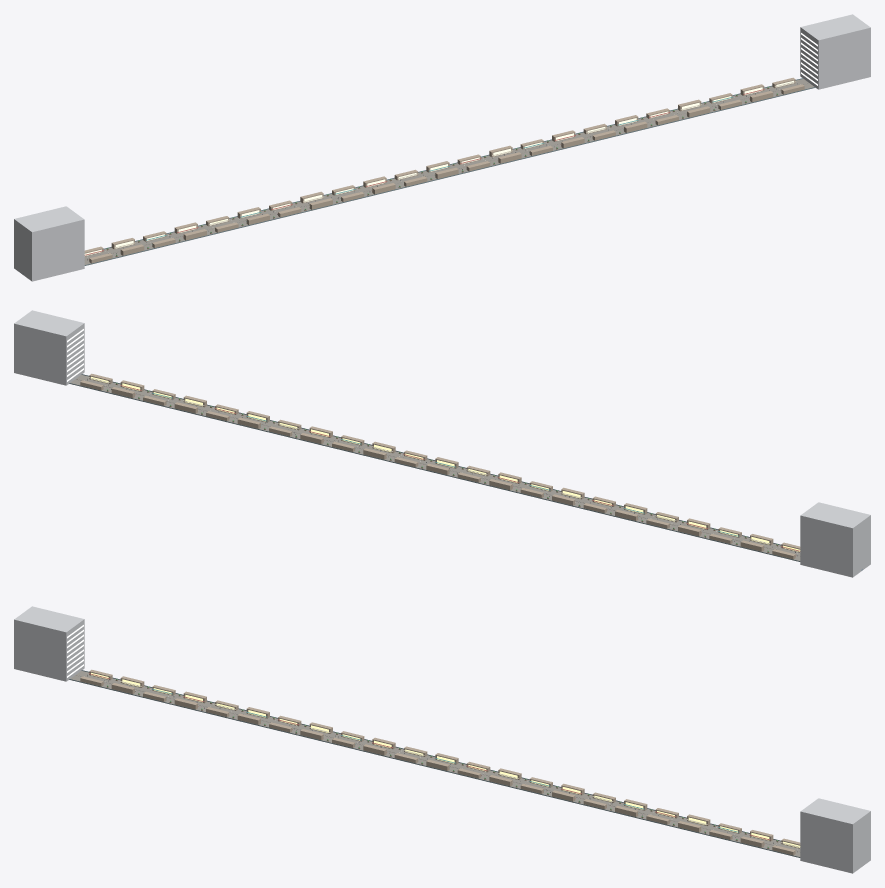
File: spine.glb
3 renders of one model, top to bottom at view 1: azimuth 30°, elevation 25°; view 2: azimuth 150°, elevation 25°; view 3: azimuth 330°, elevation 25°, orthographic.
Parts seen in each view (by area): view 1: Tower_Aft, Spine_Deck, Tower_Fore, Rail_Port; view 2: Tower_Aft, Spine_Deck, Tower_Fore, Rail_Stbd; view 3: Tower_Fore, Spine_Deck, Tower_Aft, Rail_Port.
Boxes of the visible parts, <box> form: Tower_Aft: <box>14,206,84,281</box>; Spine_Deck: <box>84,78,815,265</box>; Tower_Fore: <box>800,14,870,89</box>; Rail_Port: <box>84,87,815,265</box>; Tower_Aft: <box>800,502,870,577</box>; Spine_Deck: <box>69,374,800,561</box>; Tower_Fore: <box>14,310,84,385</box>; Rail_Stbd: <box>69,383,800,561</box>; Tower_Fore: <box>800,798,870,873</box>; Spine_Deck: <box>69,670,800,857</box>; Tower_Aft: <box>14,606,84,681</box>; Rail_Port: <box>69,679,800,857</box>.
Size of the model in its own units: 1600 by 90.5 by 60.
